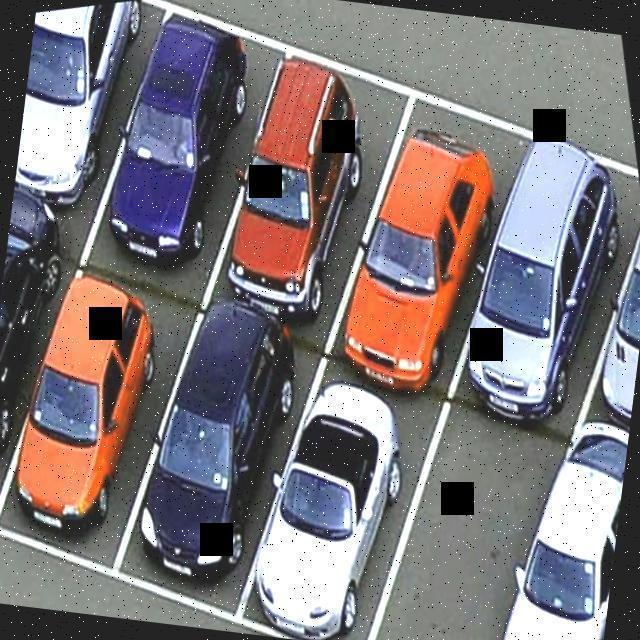space-empty: (321, 382, 593, 640)
space-occupied: (78, 289, 362, 620), (299, 94, 577, 407), (191, 348, 482, 640), (52, 0, 335, 300), (0, 252, 243, 584), (179, 54, 451, 338), (417, 110, 640, 414), (9, 0, 184, 242), (450, 432, 626, 640), (0, 205, 116, 501), (546, 209, 640, 453), (590, 515, 618, 635)
